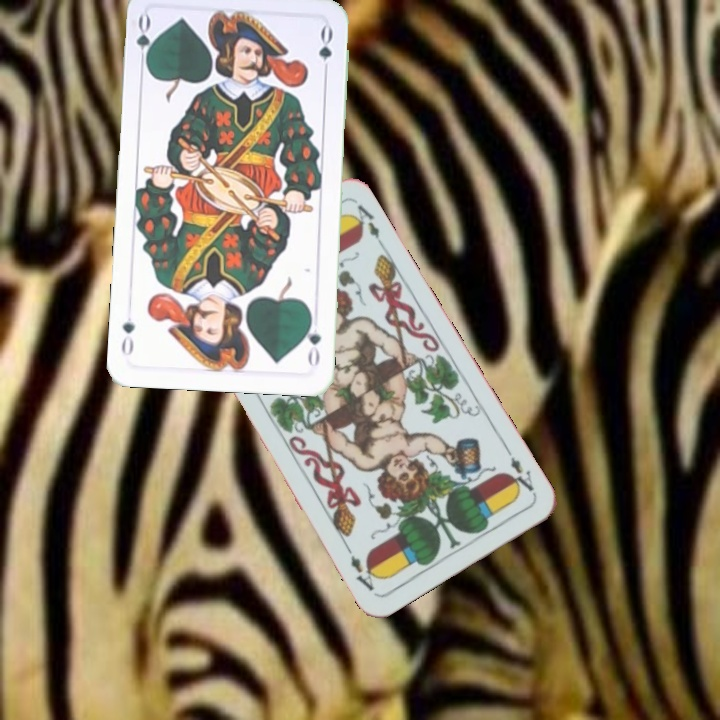EA: (502, 443, 538, 497)
GO: (132, 11, 158, 71), (301, 311, 324, 370)
